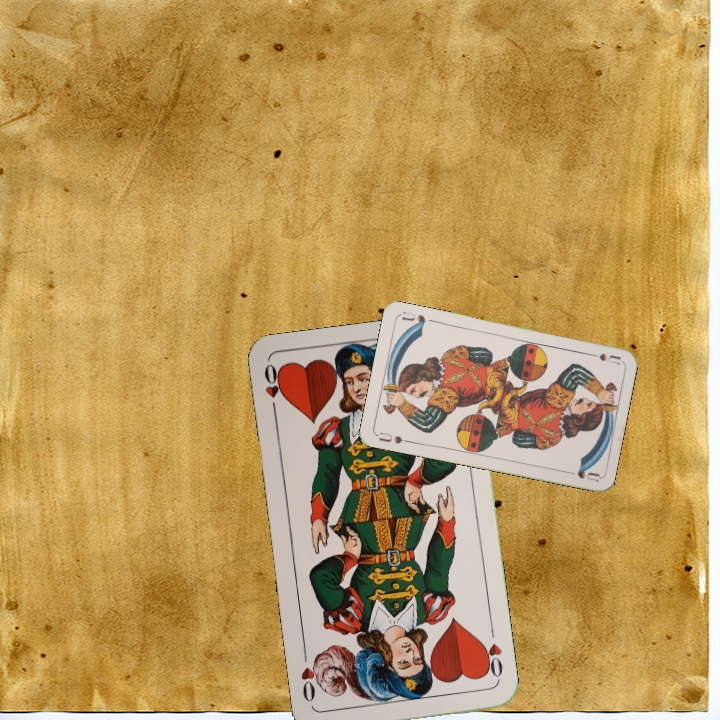HO: (477, 623, 506, 682), (260, 359, 286, 419)
SU: (582, 348, 623, 367), (373, 428, 414, 446)
